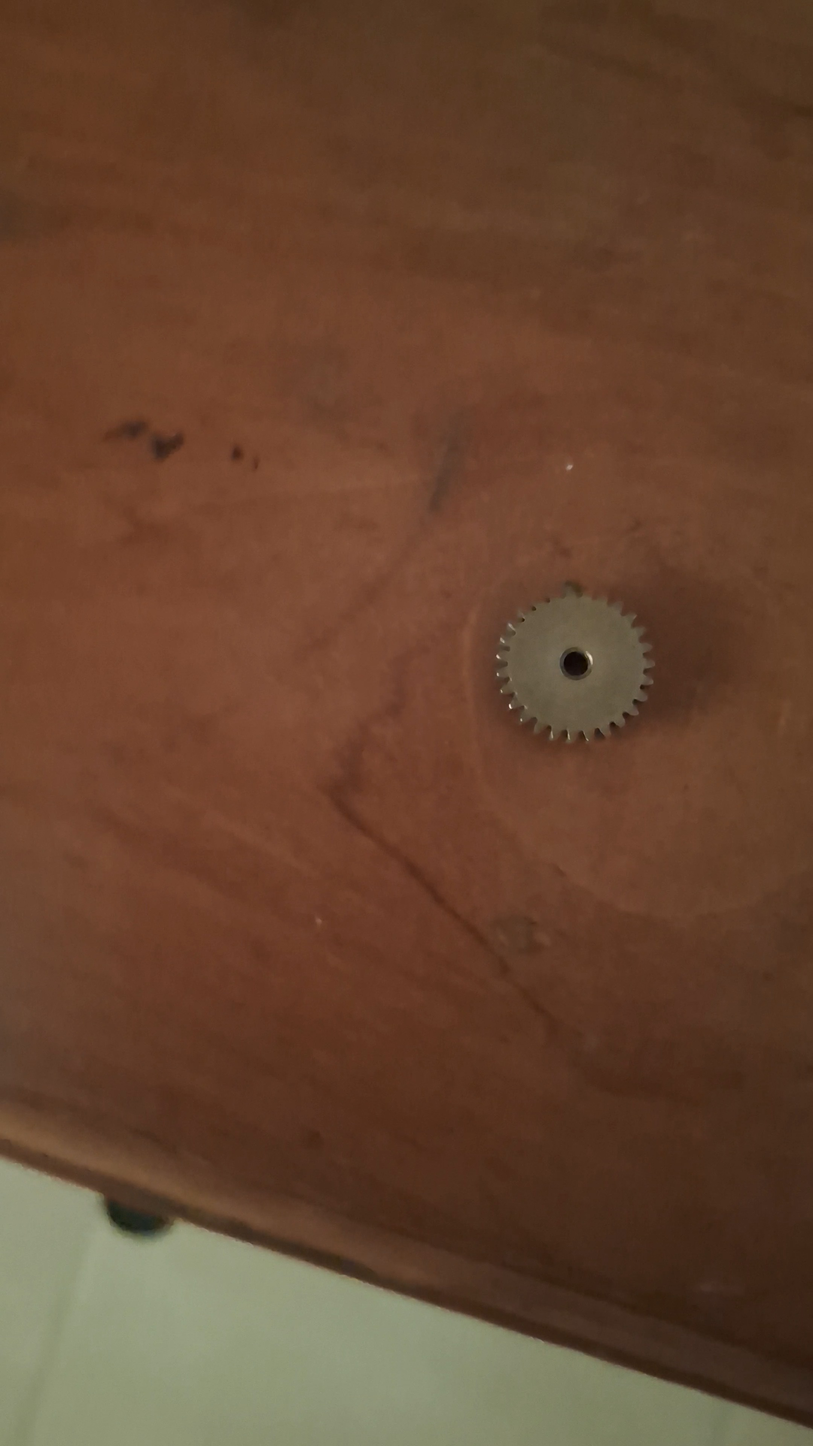spur gear: (497, 587, 652, 741)
